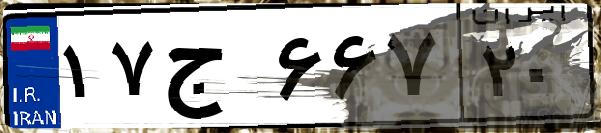0: (525, 38, 570, 115)
1: (57, 26, 110, 100)
2: (475, 38, 525, 113)
6: (270, 28, 330, 110), (330, 28, 385, 110)
7: (385, 28, 445, 110), (110, 28, 158, 98)
ج: (158, 20, 270, 120)
